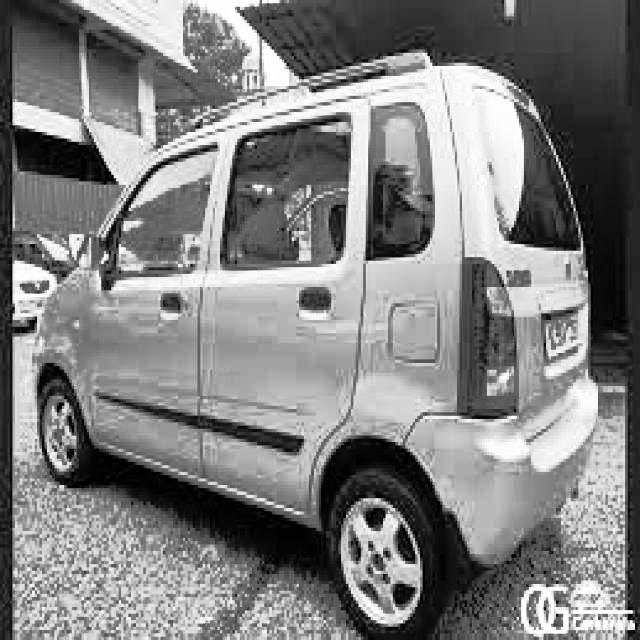Car: (32, 60, 602, 546)
